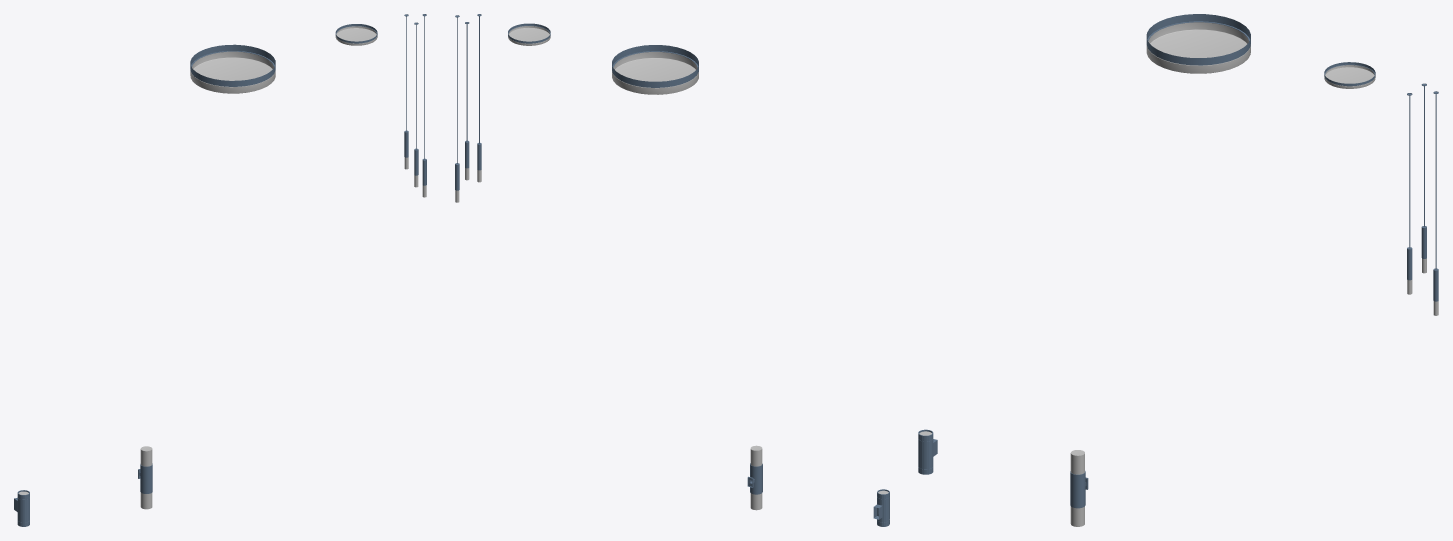
The model's file is Lamps.fbx.
3 views of the same model, side by side, from view 1: azimuth 30°, elevation 25°; view 2: azimuth 150°, elevation 25°; view 3: azimuth 330°, elevation 25° (orthographic). The views are drawn at different scales.
Visible parts, largest first — view 1: Lamp_3, Lamp_5, Lamp_6, Lamp_4, Outdoor_Spotlight; view 2: Lamp_3, Lamp_5, Lamp_6, Lamp_4, Outdoor_Spotlight; view 3: Lamp_3, Lamp_5, Lamp_6, Lamp_4, Outdoor_Spotlight.
Part boxes in pixels (x1,y1,x2,y2): Lamp_3: (190, 44, 275, 93); Lamp_5: (404, 14, 426, 197); Lamp_6: (138, 446, 152, 509); Lamp_4: (335, 24, 377, 45); Outdoor_Spotlight: (14, 490, 29, 526); Lamp_3: (612, 45, 698, 94); Lamp_5: (455, 14, 481, 202); Lamp_6: (747, 445, 762, 510); Lamp_4: (508, 23, 550, 45); Outdoor_Spotlight: (873, 489, 889, 526); Lamp_3: (1146, 14, 1250, 73); Lamp_5: (1407, 83, 1438, 315); Lamp_6: (1070, 450, 1088, 526); Lamp_4: (1324, 62, 1375, 88); Outdoor_Spotlight: (918, 429, 937, 474).
Bounding box in the file's own units: 337 × 322 × 60.
